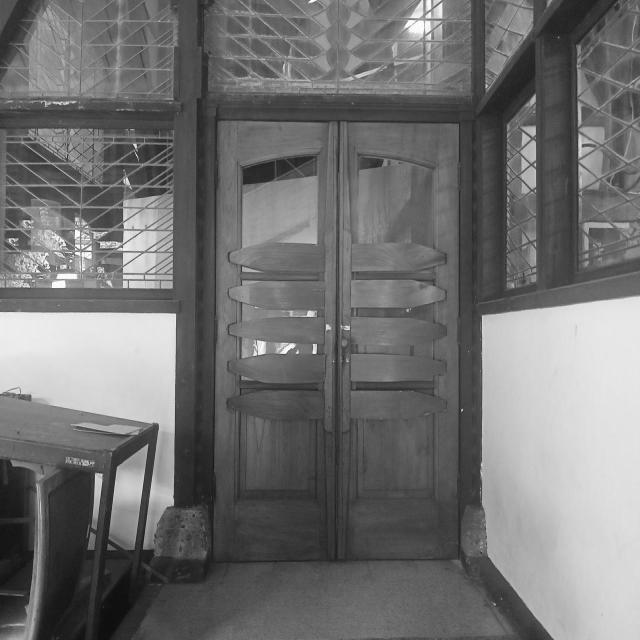door: (211, 115, 463, 564)
